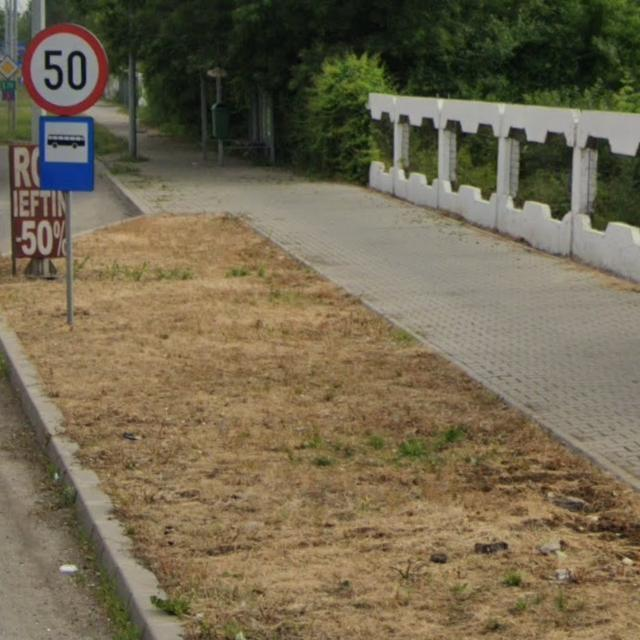forb_speed_over_50: (25, 27, 110, 115)
